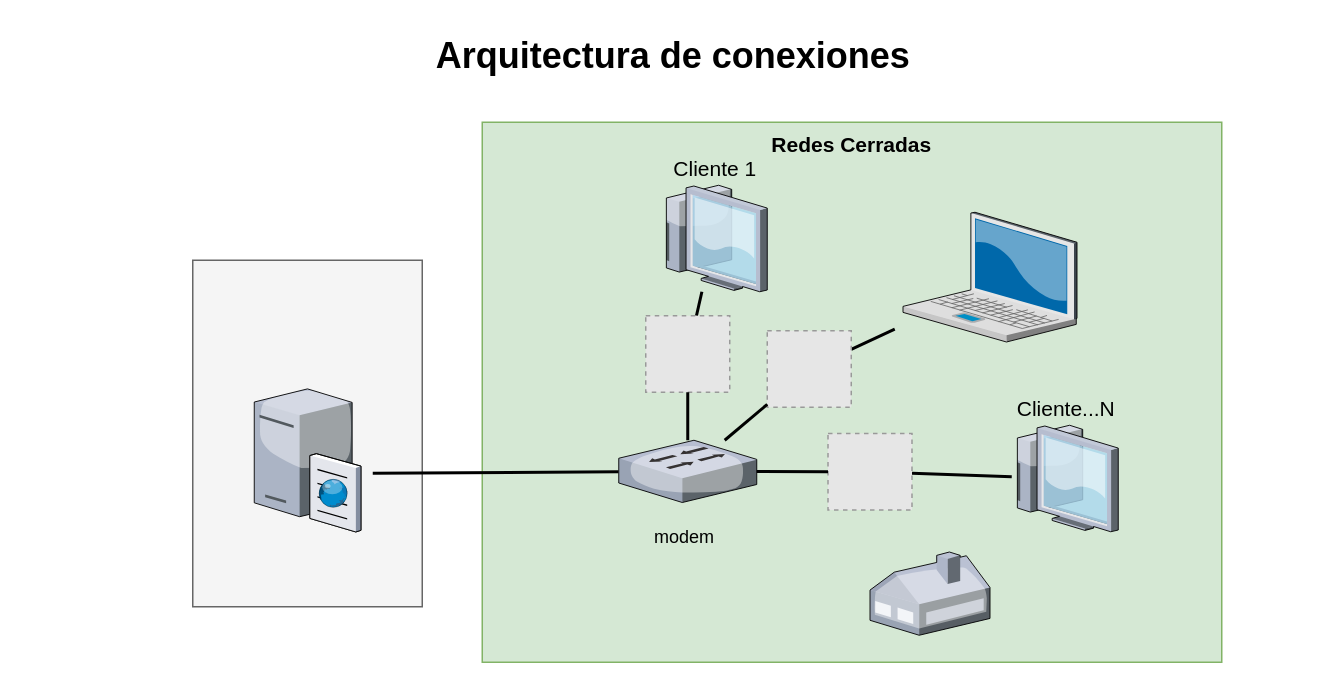
Some shapes in this 1343 by 689 pixel diagram are drawn without their labels. Grey dashed boxes stand in for pictures. Each missing label, with the box of its shape:
Cliente 2: (902, 212, 1076, 341)
Servidor: (191, 259, 422, 607)
